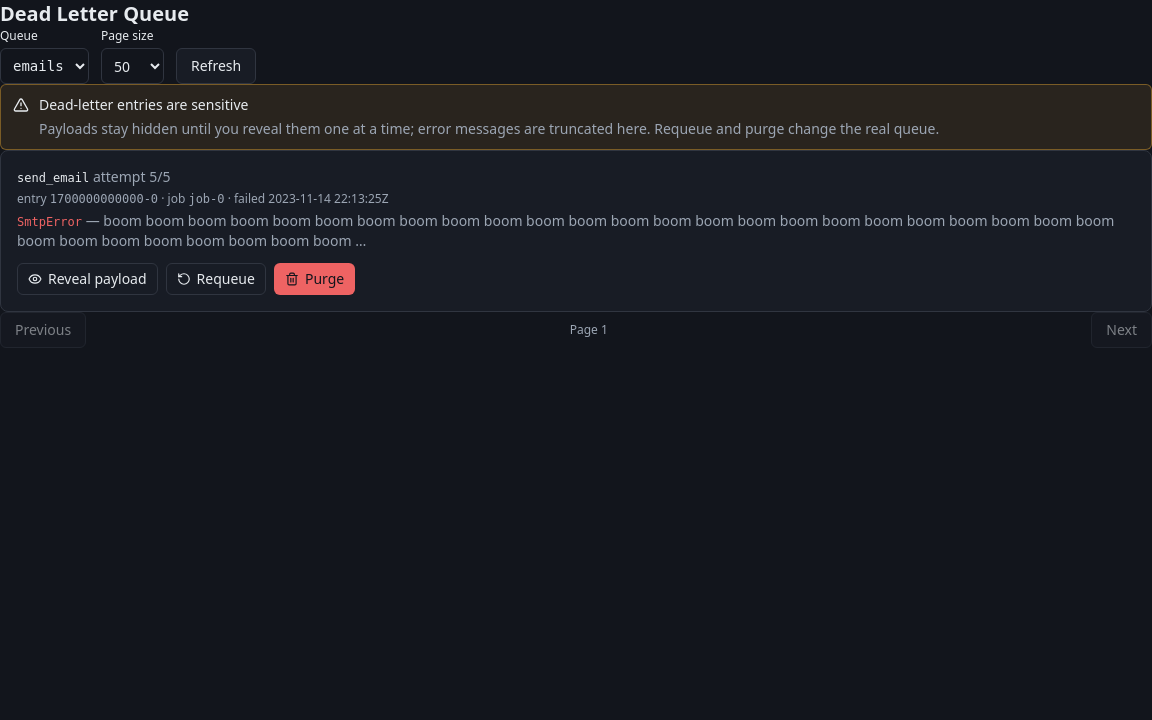
dead-letter queue › shows the server's error when an action fails and allows retry
expect the text "job-0" is shown: met, box x1=188 y1=192 x2=224 y2=206
Click the button "Requeue" at x=216, y=279, box x1=166 y1=263 x2=266 y2=295
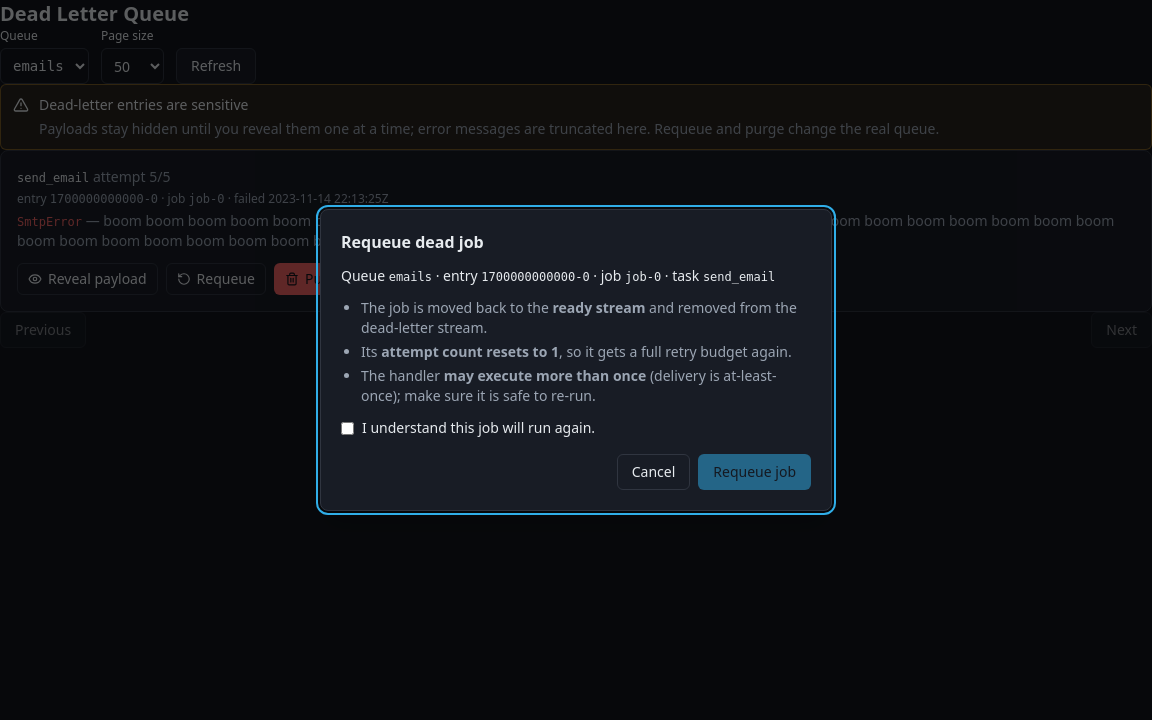
Click the checkbox at x=348, y=428, box x1=341 y1=422 x2=354 y2=435
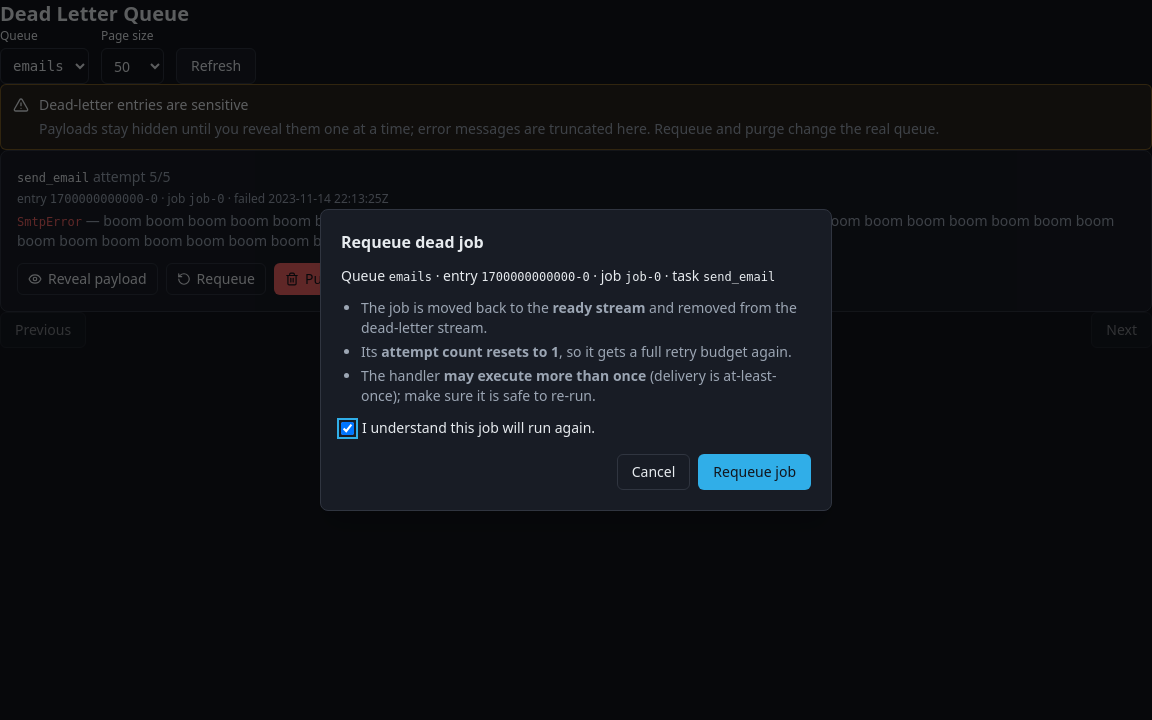
Click the button "Requeue job" at x=755, y=472, box x1=698 y1=454 x2=811 y2=490
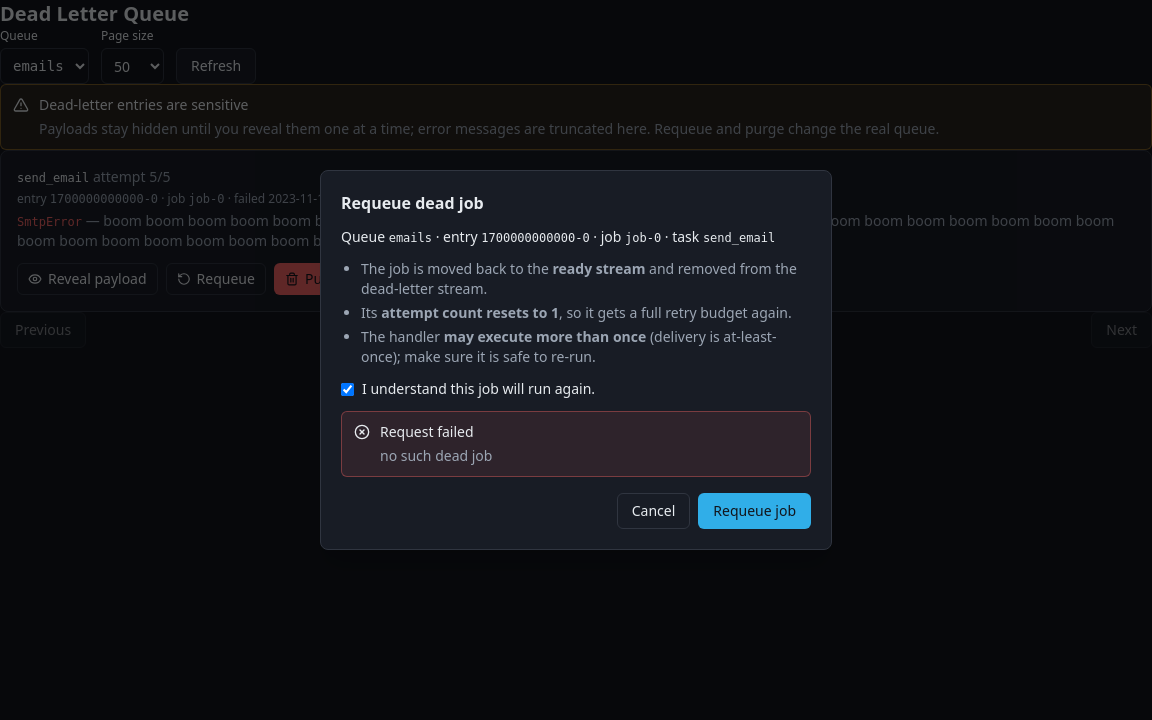
expect the button "Requeue job" is enabled: met, box x1=698 y1=493 x2=811 y2=529
expect the text "no such dead job" is shown: met, box x1=380 y1=446 x2=492 y2=466
